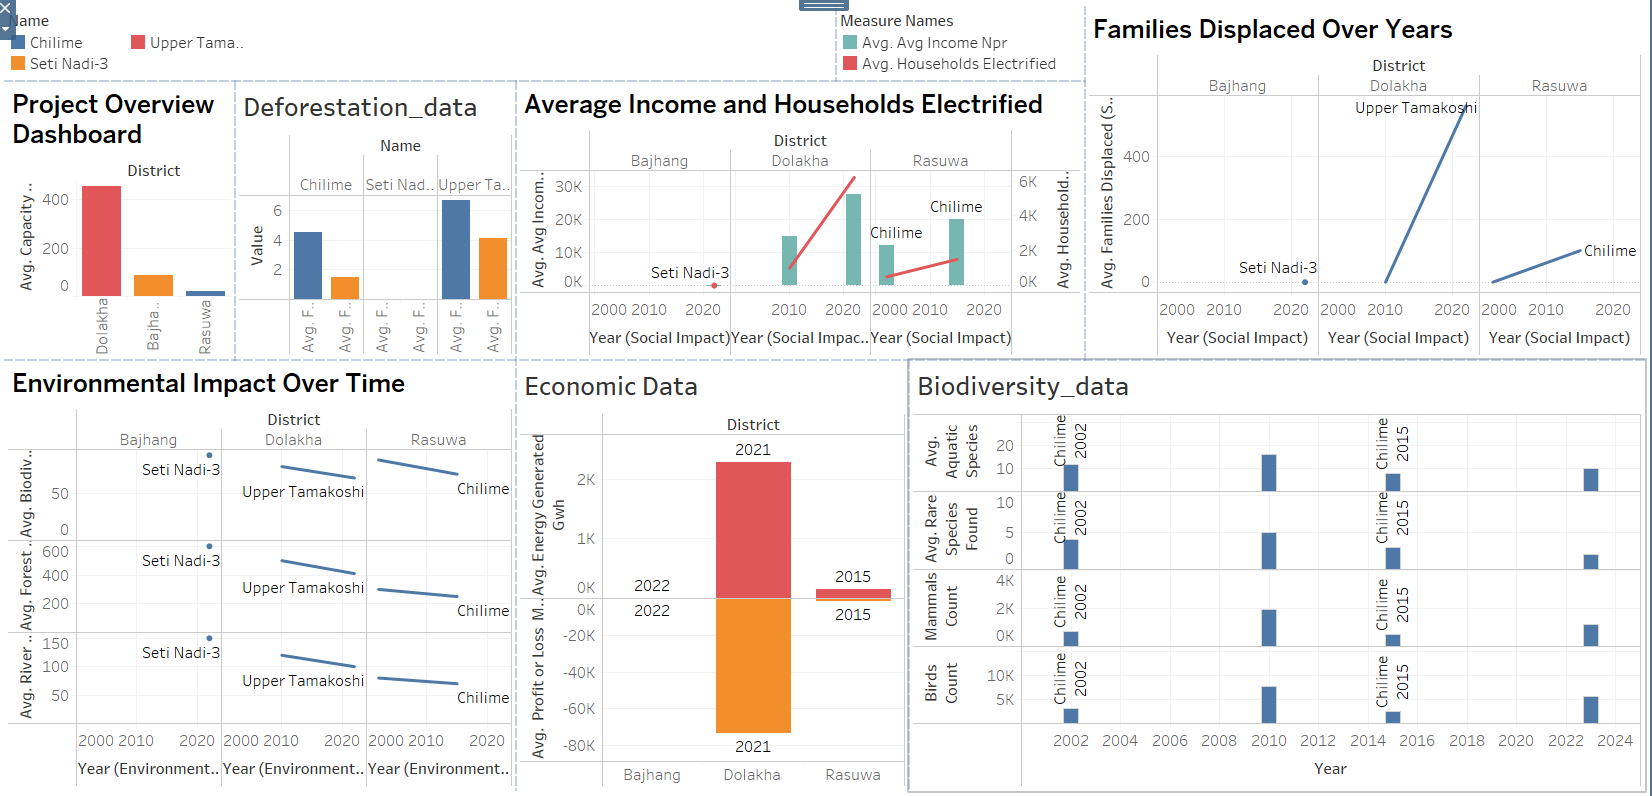

What the dashboard file says about the page in this screenshot:
{"tool":"tableau","page":{"name":"Dashboard 1","canvas":[1000,1000],"units":"permille","ordinal":0},"visuals":[{"type":"legend","title":"Sheet 1","param":"[federated.1fvpbnu03wmss915m9r2l1x91ov2].[none:name:nk]","box":[4.8,10,502.2,93.6]},{"type":"legend","title":"Sheet 4","param":"[federated.1fvpbnu03wmss915m9r2l1x91ov2].[:Measure Names]","box":[507,10,150.2,93.6]},{"type":"worksheet","title":"Sheet 3","mark":"Line","rows":["families_displaced (social!impact)"],"cols":["district","year (social!impact)"],"box":[657.2,10,338,441.9]},{"type":"worksheet","title":"Sheet 1","mark":"Automatic","rows":["capacity_mw"],"cols":["district"],"box":[4.8,103.6,139.4,348.3]},{"type":"worksheet","title":"Sheet 7","mark":"Automatic","cols":["name"],"box":[144.2,103.6,169.6,348.3]},{"type":"worksheet","title":"Sheet 4","mark":"Bar","rows":["avg_income_npr","households_electrified"],"cols":["district","year (social!impact)"],"box":[313.8,103.6,343.4,348.3]},{"type":"worksheet","title":"Sheet 2","mark":"Line","rows":["biodiversity_index","forest_cover_sqkm","river_flow_cumecs"],"cols":["district","year (environmental!data)"],"box":[4.8,451.9,309,538.1]},{"type":"worksheet","title":"Sheet 5","mark":"Automatic","rows":["energy_generated_gwh","Calculation_273030737935183872"],"cols":["district"],"box":[313.8,451.9,237.2,538.1]},{"type":"worksheet","title":"Sheet 6","mark":"Bar","rows":["aquatic_species","rare_species_found","mammals_count","birds_count"],"cols":["year"],"box":[551,451.9,444.2,538.1]}]}

Visuals, with their boxes on the dashboard's canvas, which has no fixed pixel size, in thousandths of its width and height (x1, y1, x2, y2). These are canvas units, not pixel positions in the 1652x796 screenshot, which may show the page scaled, cropped or inside an application window:
"Sheet 1" legend: 5:10:507:104
"Sheet 4" legend: 507:10:657:104
"Sheet 3" worksheet (Line marks): 657:10:995:452
"Sheet 1" worksheet: 5:104:144:452
"Sheet 7" worksheet: 144:104:314:452
"Sheet 4" worksheet (Bar marks): 314:104:657:452
"Sheet 2" worksheet (Line marks): 5:452:314:990
"Sheet 5" worksheet: 314:452:551:990
"Sheet 6" worksheet (Bar marks): 551:452:995:990
